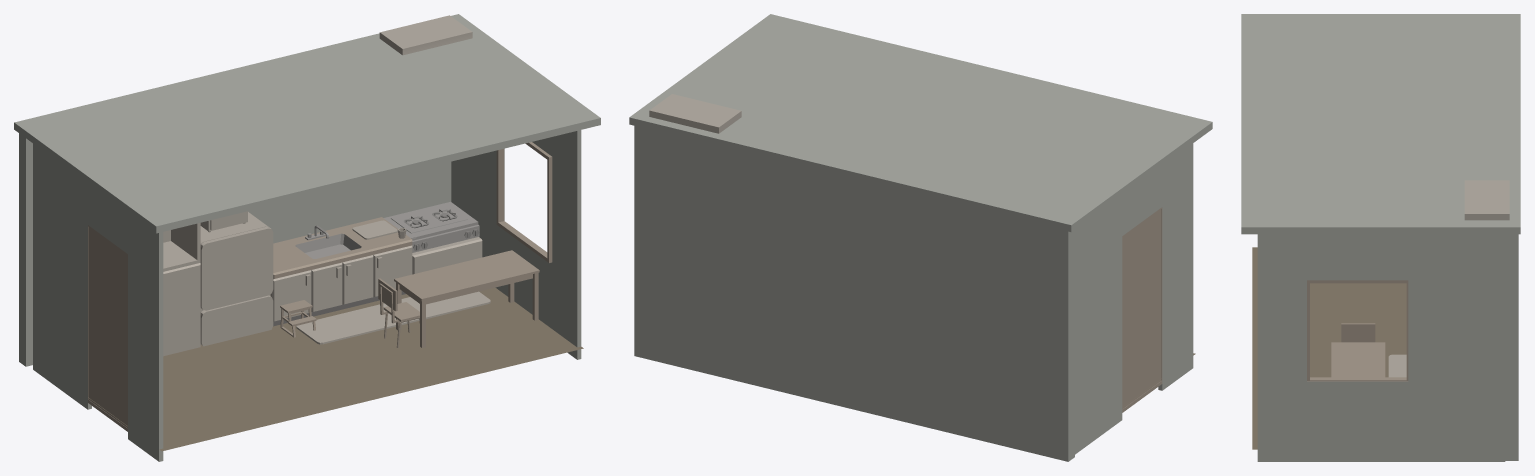
The model's file is homekitchen.fbx.
The picture shows the model from 3 angles, left to right: view 1: azimuth 30°, elevation 25°; view 2: azimuth 150°, elevation 25°; view 3: azimuth 270°, elevation 25°; orthographic projection.
Visible parts, largest first — view 1: pPlane199, pPlane197, pPlane340, pPlane198, pPlane196, pCube461, pPlane341, pCube480, pCube450, polySurface358, pCube498, pCube479 (+9 smaller); view 2: pPlane196, pPlane199, pPlane340, pPlane341, pCube443, pCube507; view 3: pPlane199, pPlane198, pPlane197, pPlane196, polySurface358, pCube443, pCube454, polySurface80, pCube498.
Part boxes in pixels (bbox=[...]): pPlane199: bbox=[14, 14, 600, 233]; pPlane197: bbox=[88, 287, 583, 451]; pPlane340: bbox=[33, 143, 163, 461]; pPlane198: bbox=[451, 130, 581, 359]; pPlane196: bbox=[19, 133, 451, 366]; pCube461: bbox=[270, 217, 412, 321]; pPlane341: bbox=[88, 227, 127, 427]; pCube480: bbox=[200, 226, 273, 310]; pCube450: bbox=[163, 223, 200, 356]; polySurface358: bbox=[394, 250, 539, 304]; pCube498: bbox=[296, 291, 490, 344]; pCube479: bbox=[200, 295, 273, 346]; pPlane196: bbox=[634, 126, 1074, 461]; pPlane199: bbox=[629, 14, 1212, 232]; pPlane340: bbox=[1075, 143, 1193, 454]; pPlane341: bbox=[1122, 209, 1161, 408]; pCube443: bbox=[649, 94, 741, 133]; pCube507: bbox=[1122, 207, 1162, 412]; pPlane199: bbox=[1241, 14, 1520, 234]; pPlane198: bbox=[1257, 234, 1505, 461]; pPlane197: bbox=[1252, 247, 1406, 449]; pPlane196: bbox=[1505, 234, 1518, 460]; polySurface358: bbox=[1331, 342, 1385, 377]; pCube443: bbox=[1464, 180, 1509, 220]; pCube454: bbox=[1307, 280, 1408, 381]; polySurface80: bbox=[1341, 323, 1375, 342]; pCube498: bbox=[1388, 354, 1406, 377].
Bounding box in the file's own units: 8.72 × 4.7 × 4.82.
